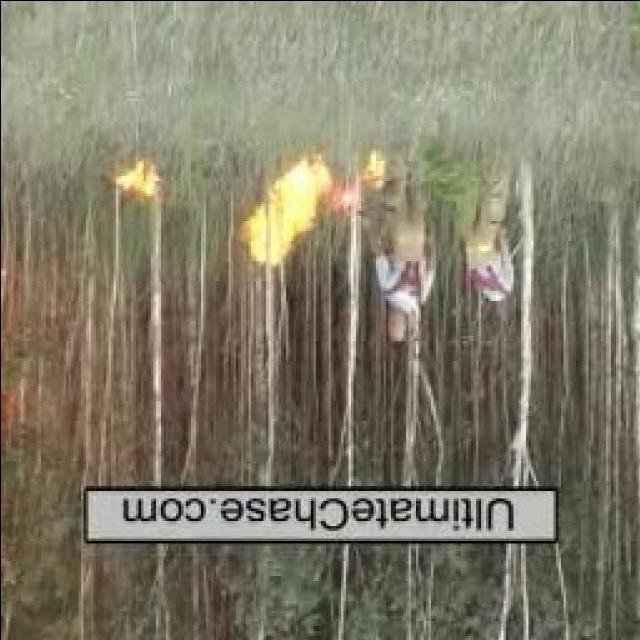Fire: (240, 157, 332, 267), (336, 144, 394, 204), (118, 153, 160, 200)
